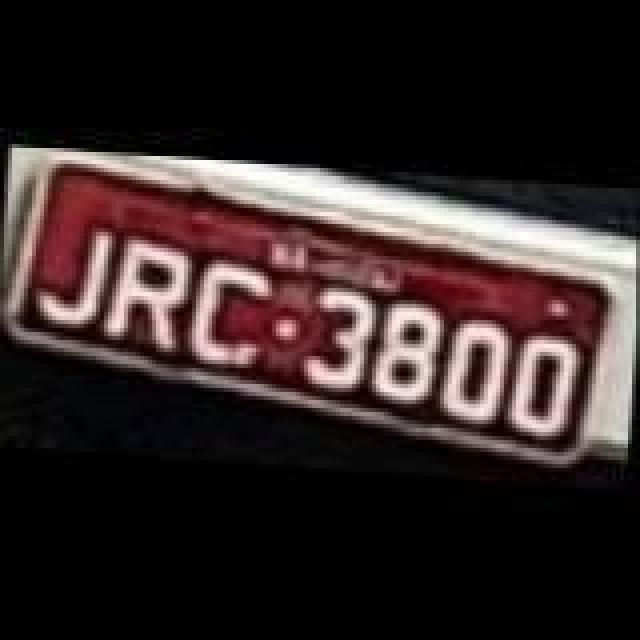3: (300, 286, 384, 402)
8: (376, 298, 444, 406)
C: (182, 264, 278, 376)
J: (28, 220, 120, 332)
O: (438, 320, 518, 432), (504, 330, 580, 438)
R: (104, 228, 196, 348)
